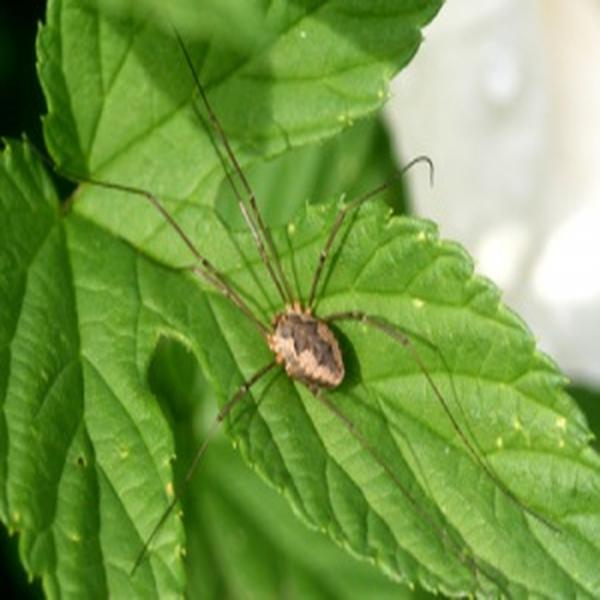Daddy Long Legs Spider: (82, 25, 557, 553)
